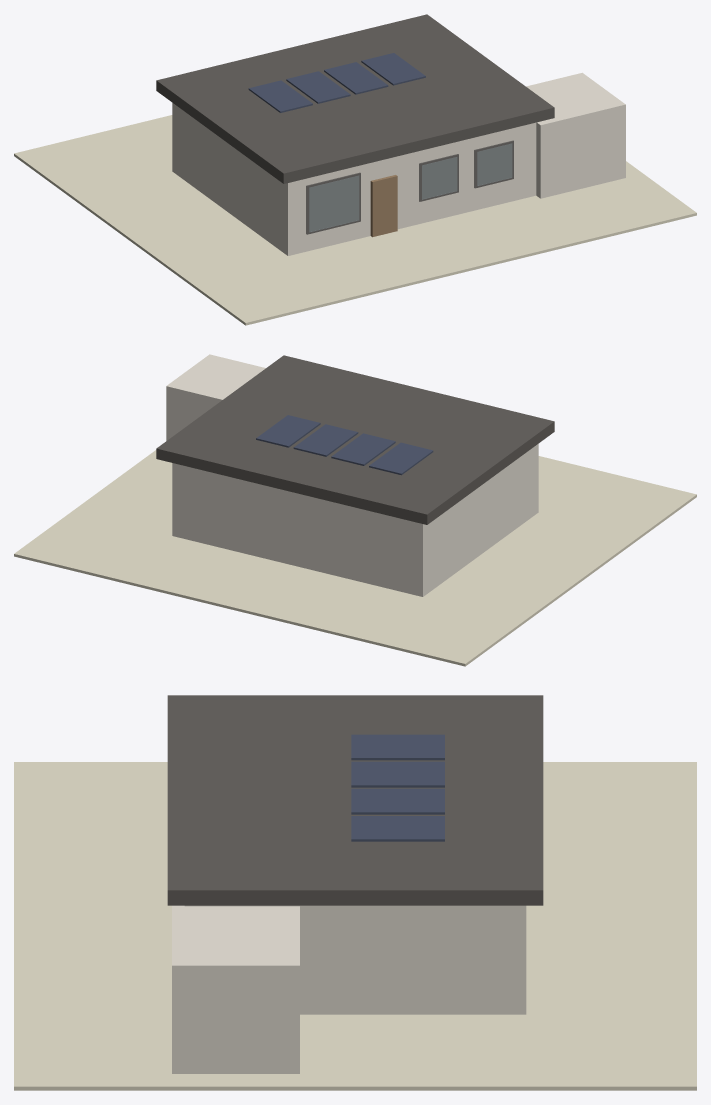
Rendered from montana.glb.
3 renders of one model, top to bottom at view 1: azimuth 30°, elevation 25°; view 2: azimuth 150°, elevation 25°; view 3: azimuth 270°, elevation 25°, orthographic. The views are drawn at different scales.
Visible parts, largest first — view 1: Ground, Roof, Walls, Wing, Frames, Windows, Solar, Door; view 2: Ground, Roof, Walls, Solar, Wing; view 3: Ground, Roof, Walls, Wing, Solar.
Part boxes in pixels (<box>): Ground: <box>14,115,696,325</box>; Roof: <box>156,14,554,183</box>; Walls: <box>172,103,536,255</box>; Wing: <box>526,72,625,198</box>; Frames: <box>306,140,513,234</box>; Windows: <box>309,144,512,231</box>; Solar: <box>248,53,425,112</box>; Door: <box>370,175,397,237</box>; Ground: <box>14,450,696,666</box>; Roof: <box>156,355,554,524</box>; Walls: <box>172,444,538,596</box>; Solar: <box>256,415,433,475</box>; Wing: <box>166,354,265,440</box>; Ground: <box>14,762,696,1090</box>; Roof: <box>167,695,543,905</box>; Walls: <box>185,905,526,1014</box>; Wing: <box>172,905,299,1073</box>; Solar: <box>351,734,444,841</box>.
Bounding box in the file's own units: 18 × 3.58 × 16.
